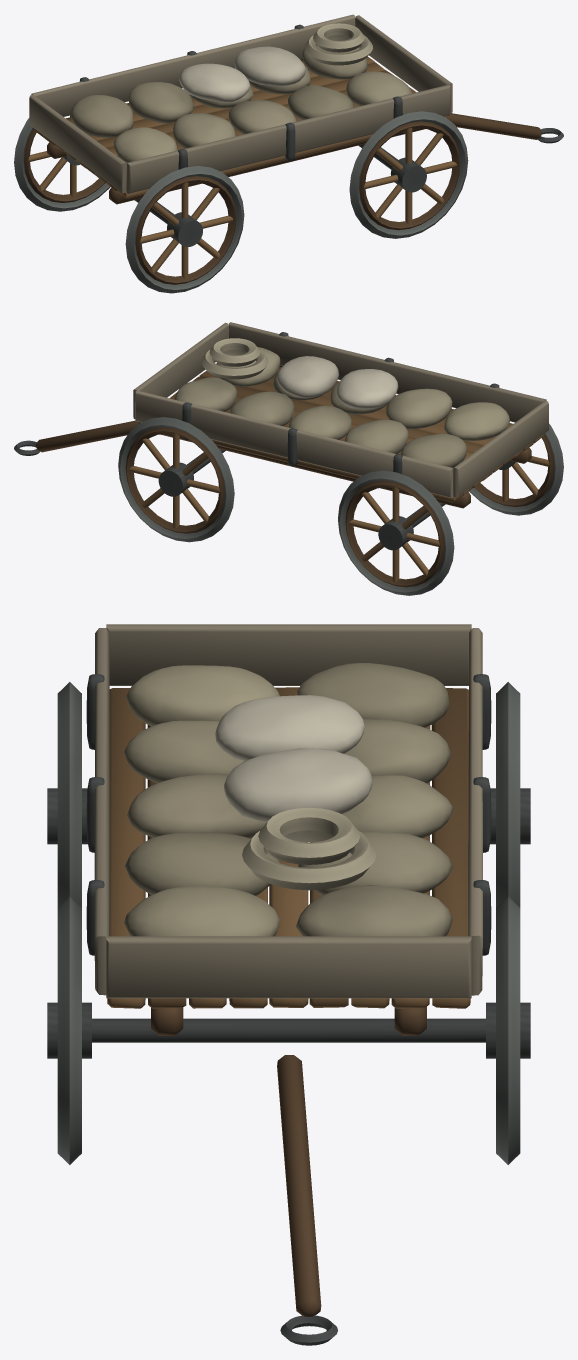
The model's file is haul_wagon_a.glb.
3 renders of one model, top to bottom at view 1: azimuth 30°, elevation 25°; view 2: azimuth 150°, elevation 25°; view 3: azimuth 270°, elevation 25°, orthographic. The views are drawn at different scales.
Parts seen in each view (by area): view 1: Surface; view 2: Surface; view 3: Surface.
Part boxes in pixels (left/top/right/bottom): Surface: left=14, top=14, right=563, bottom=293; Surface: left=14, top=322, right=563, bottom=595; Surface: left=47, top=624, right=530, bottom=1345.
Size of the model in its own units: 5.56 by 1.73 by 2.38.
